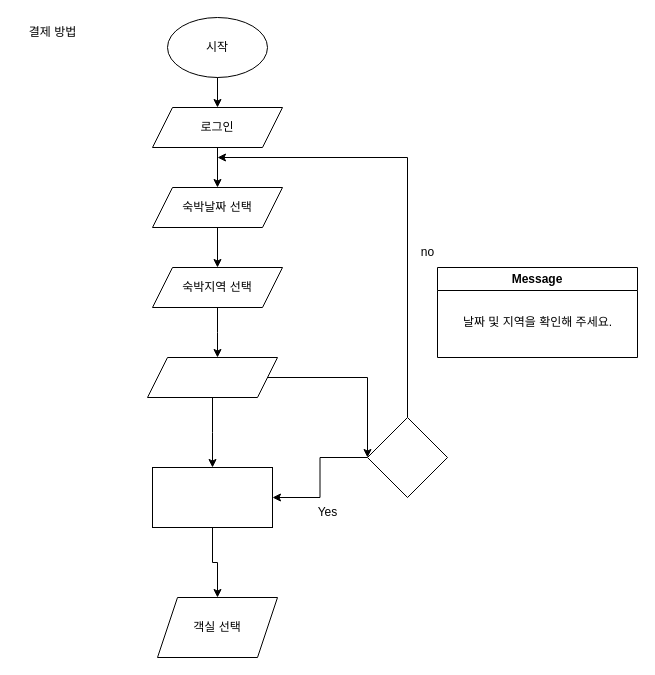
The diagram is 655 pixels wide and 675 high, and some of its shapes have lost their labels. Each missing label, with the centre of its shape:
검색 버튼 클릭: (212,377)
날짜 및 지역 선택 하였는가?: (407,457)
숙박 업소 확인: (212,497)
